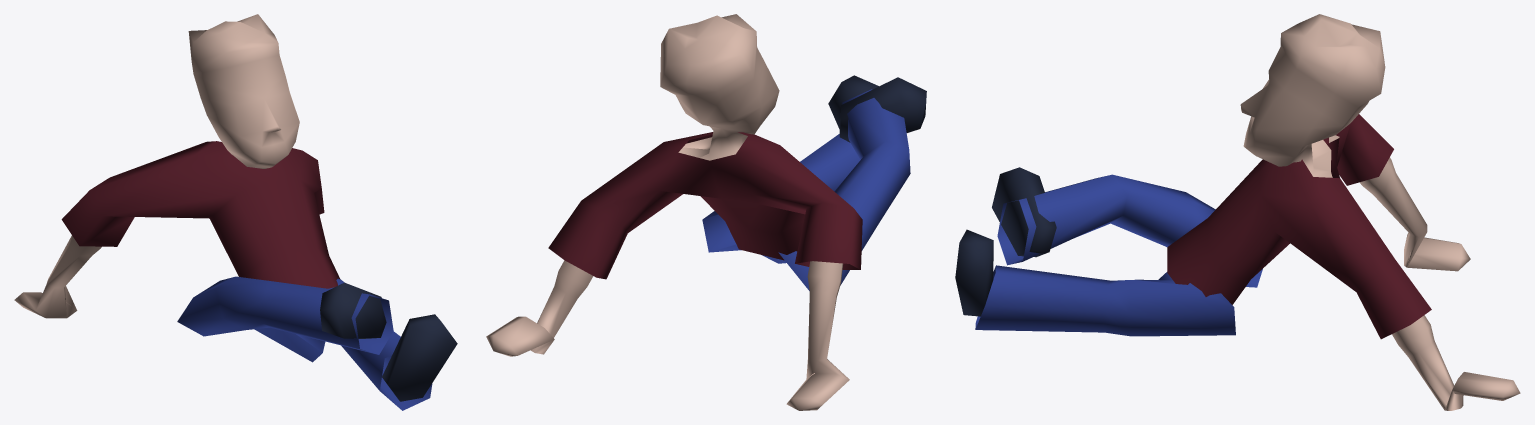
File: stuck.fbx
3 renders of one model, left to right at view 1: azimuth 30°, elevation 25°; view 2: azimuth 150°, elevation 25°; view 3: azimuth 270°, elevation 25°, orthographic. The views are drawn at different scales.
Parts seen in each view (by area): view 1: Circle.001; view 2: Circle.001; view 3: Circle.001.
Boxes of the visible parts, left/top/right/bottom form: Circle.001: left=14, top=14, right=457, bottom=410; Circle.001: left=486, top=14, right=926, bottom=410; Circle.001: left=955, top=14, right=1520, bottom=410.
Size of the model in its own units: 101 by 96.46 by 149.
